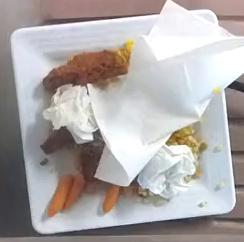carrots: (46, 173, 85, 217), (103, 184, 119, 213)
unknown: (42, 49, 130, 93)
